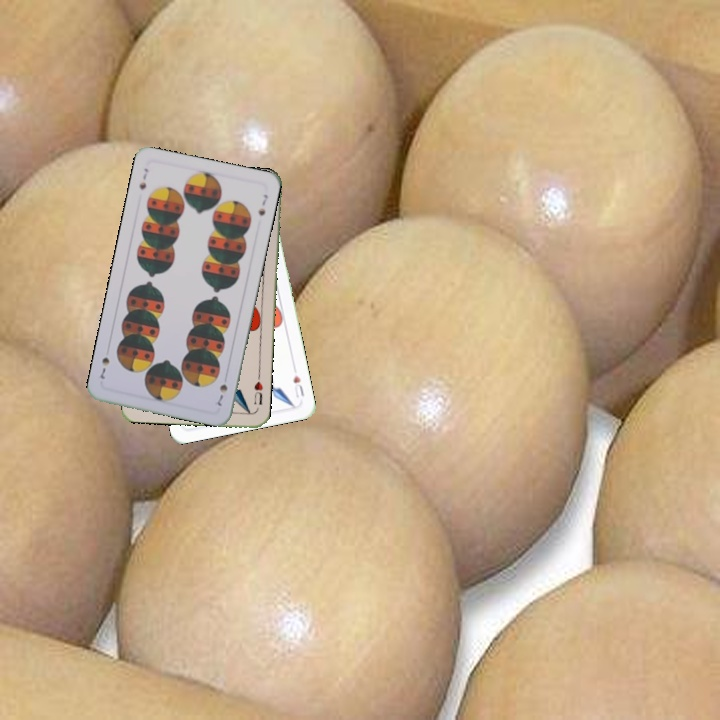HU: (289, 371, 307, 400), (250, 377, 265, 407)
S7: (213, 380, 230, 409), (135, 164, 151, 192)
